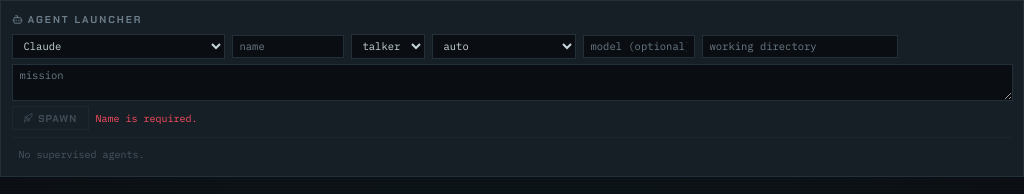
Scenario: AgentLauncher — mute permission modes › leaves a speakable mode submittable
Type "alpha" into the field named "Agent name" at x=288, y=46, box [232,34,344,58]
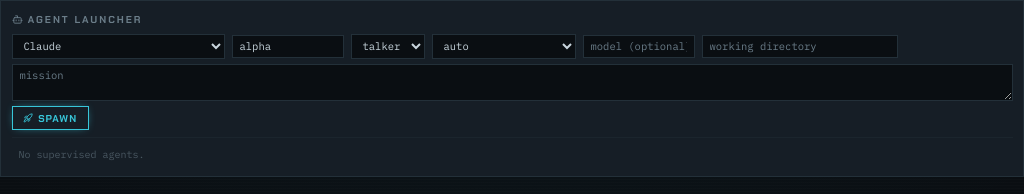
Expected: the button with aria-label "Spawn agent" is enabled, [12,106,89,130]
